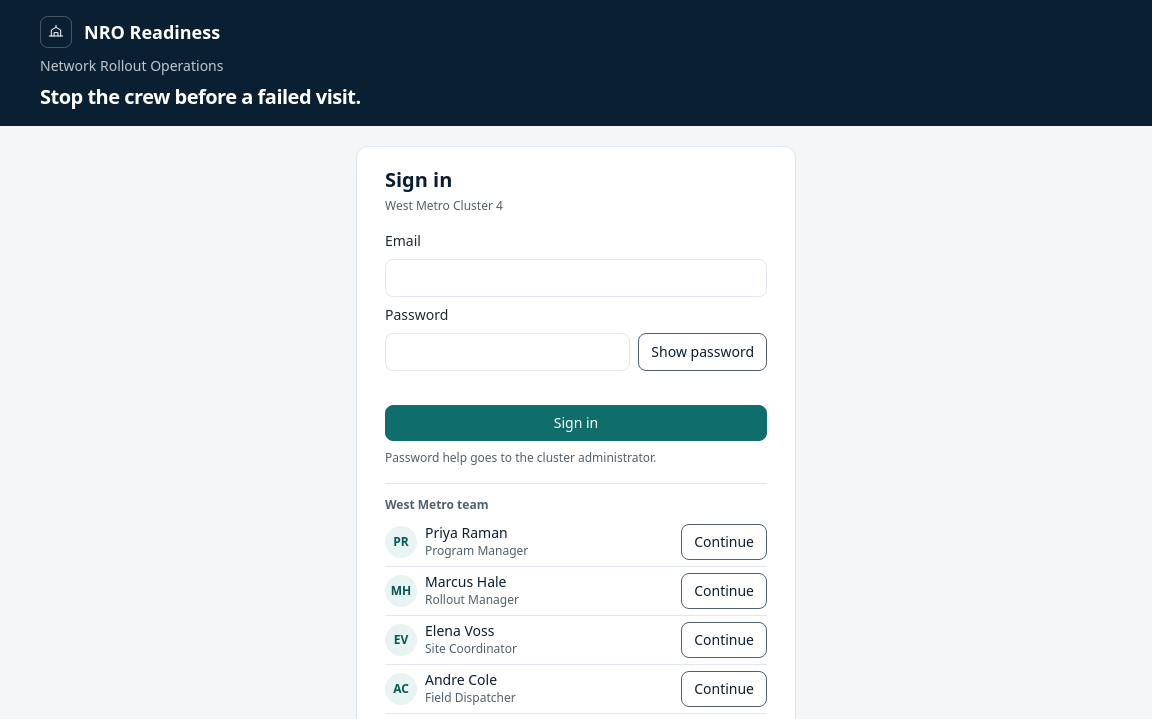
Test: portfolio controls › intersects search and risk filters, shows an empty result, and resets to the full register
Click the button with aria-label "Continue as Marcus Hale". click: (724, 591)
box: x1=681 y1=573 x2=767 y2=609
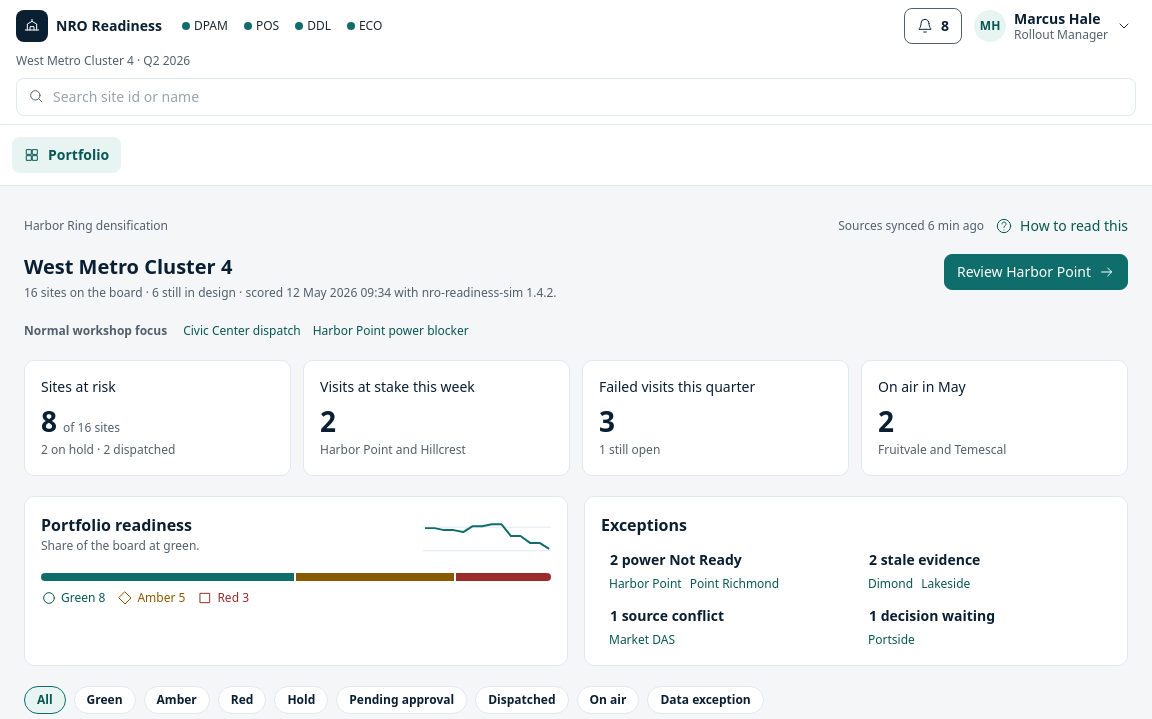
Check: the heading "West Metro Cluster 4" is shown, box x1=24 y1=253 x2=232 y2=280
Type " 1842 " into the search field labelled "Search site id or name". click: (576, 97)
box: x1=16 y1=78 x2=1136 y2=116
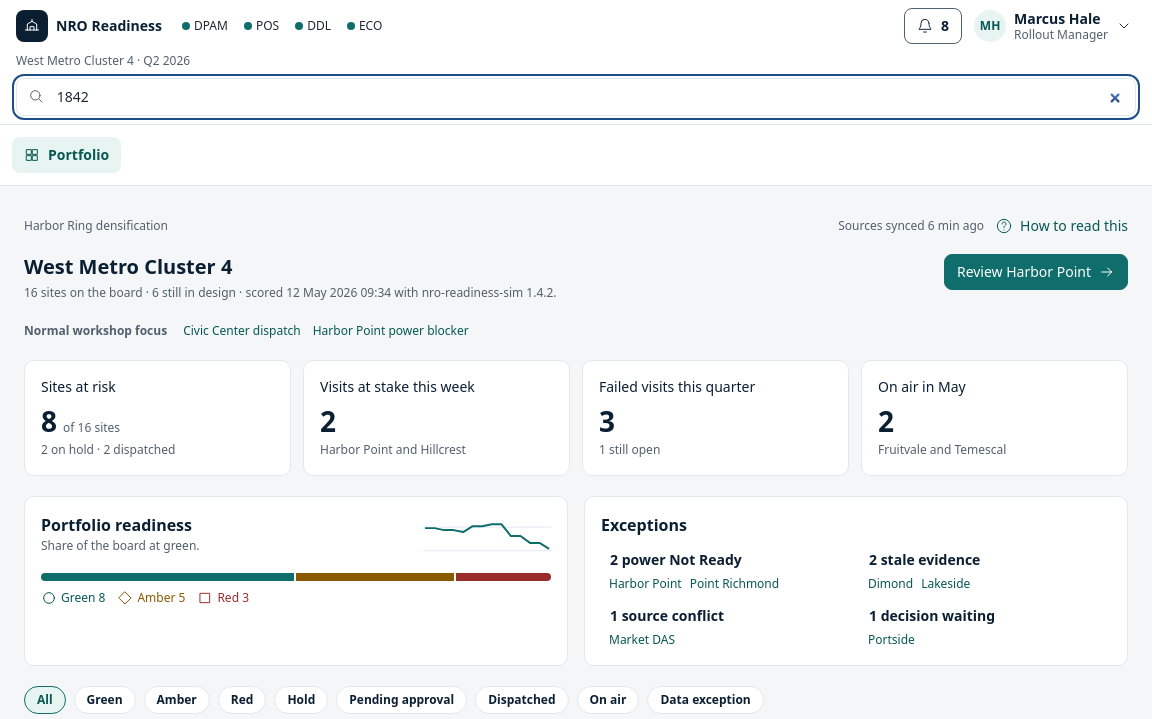
Click the button "Green". click: (105, 700)
box: x1=74 y1=686 x2=136 y2=714
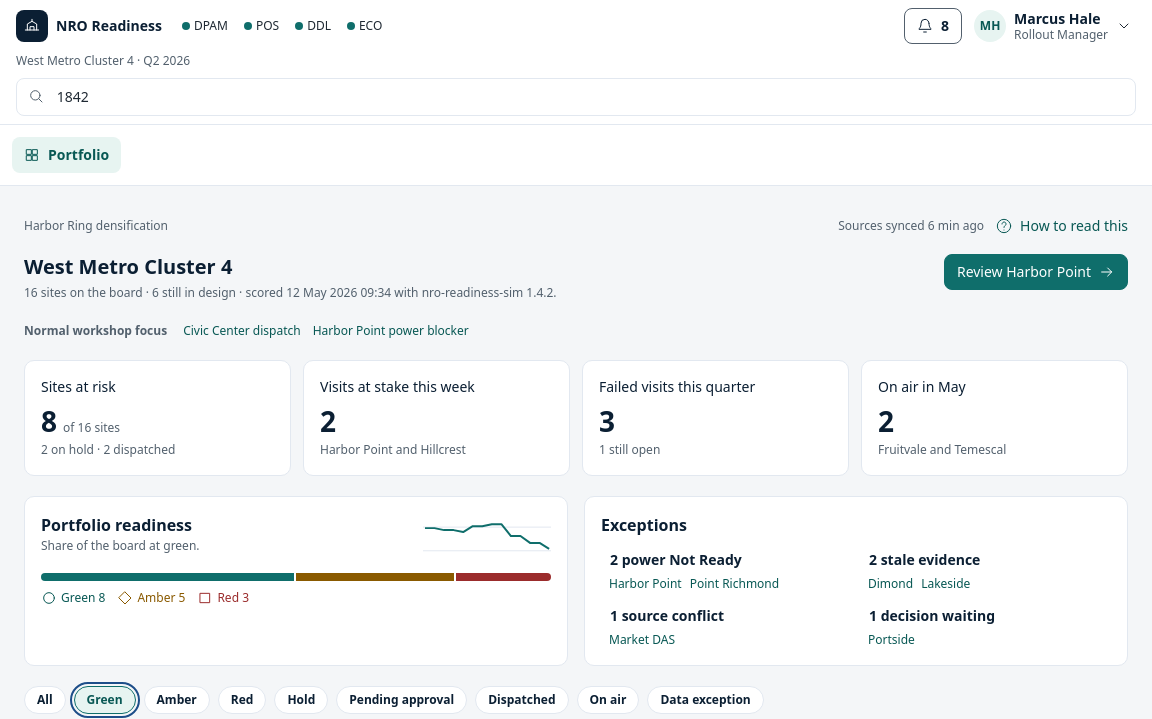
Check: the button "Green" is shown, box x1=74 y1=686 x2=136 y2=714
Clear the search field named "Search site id or name". click: (576, 97)
box: x1=16 y1=78 x2=1136 y2=116
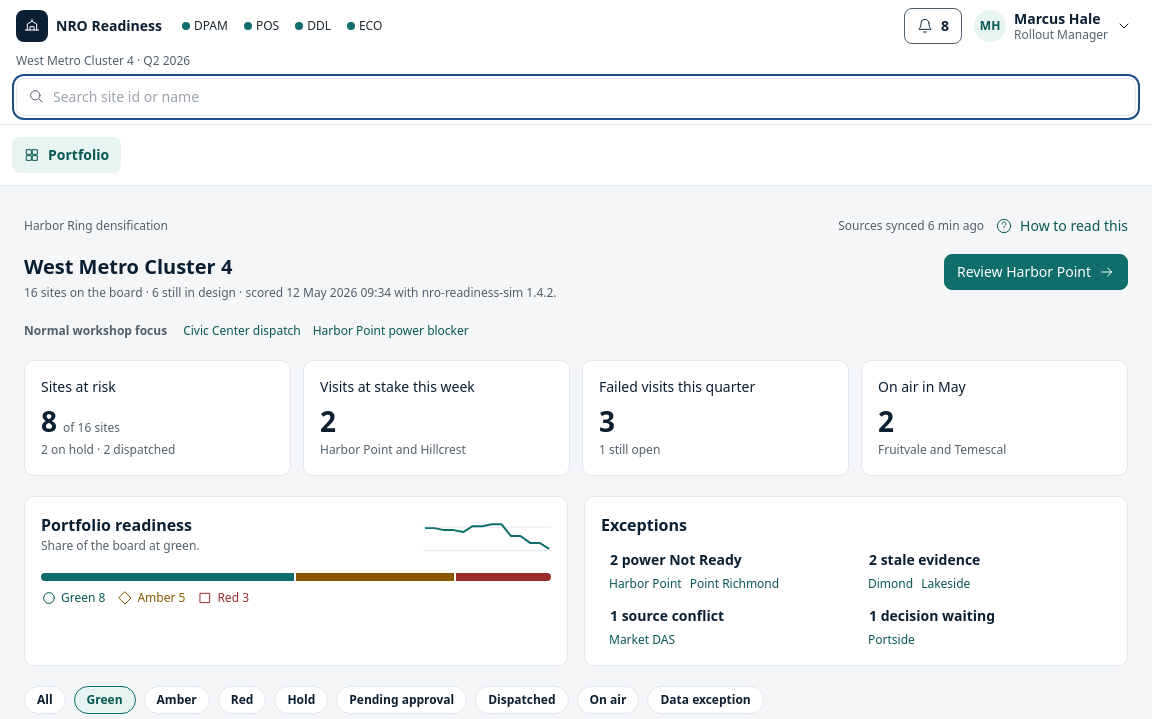
Click the button "All". click: (45, 700)
box: x1=24 y1=686 x2=66 y2=714
(page scrolled)
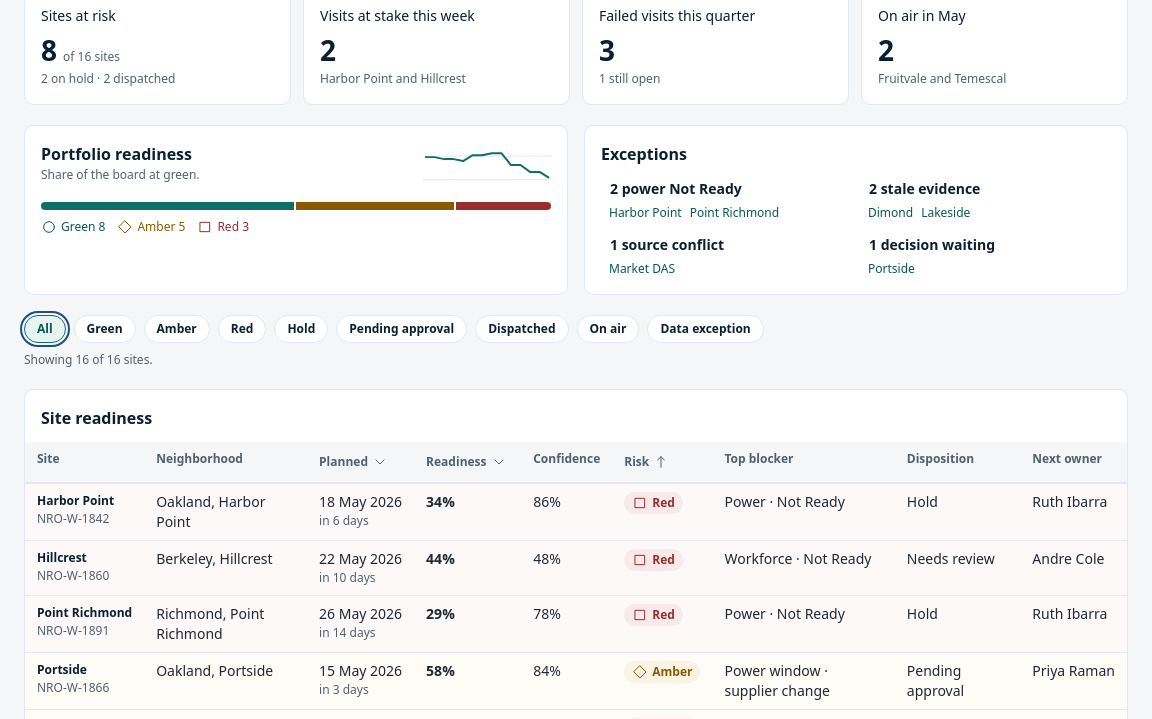
Check: the number of rows is 17
Check: the message reads "Showing 16 of 16 sites.", box x1=24 y1=351 x2=153 y2=368
